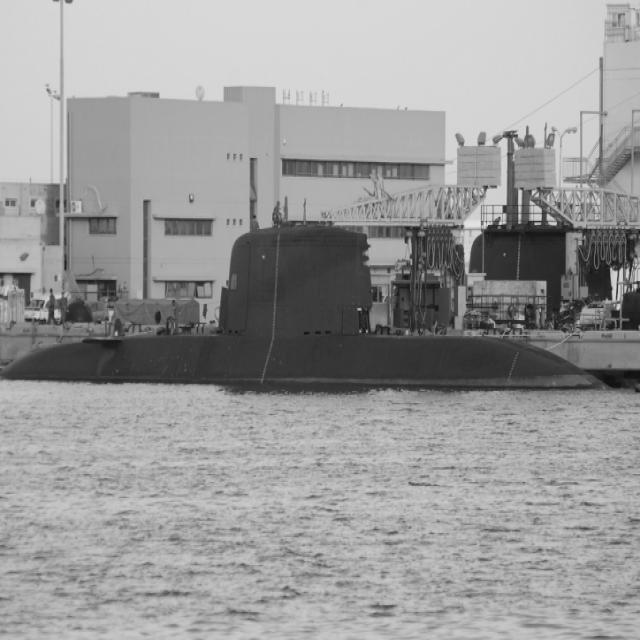submarine: (1, 218, 620, 393)
